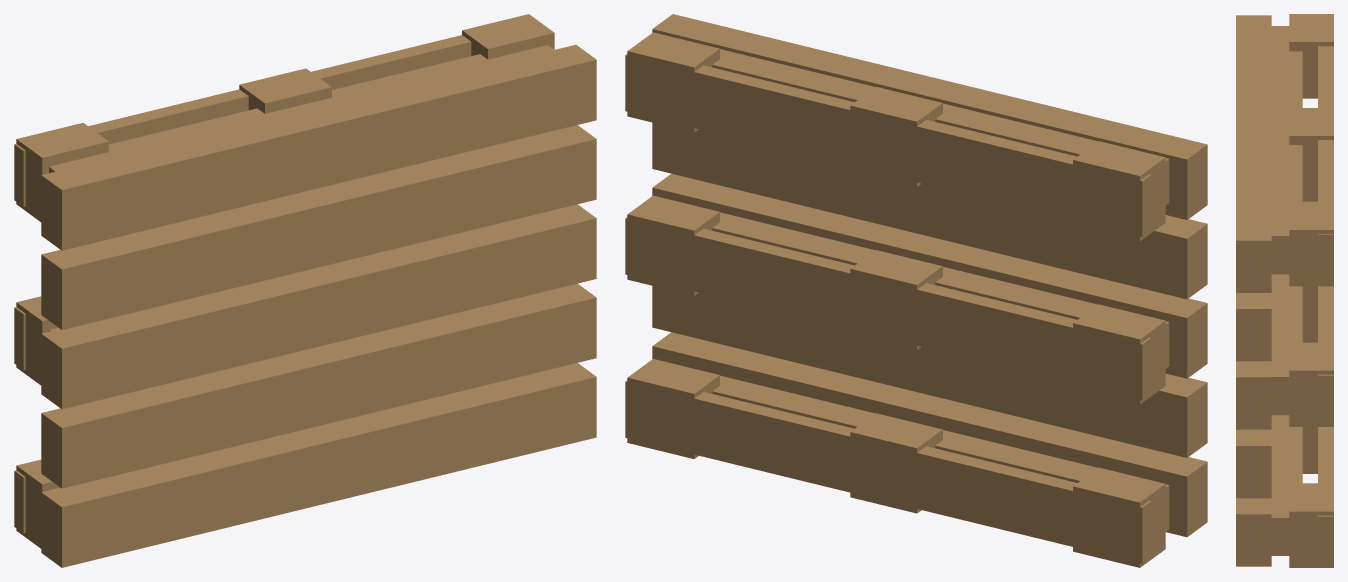
Rendered from pallet.glb.
The picture shows the model from 3 angles, left to right: view 1: azimuth 30°, elevation 25°; view 2: azimuth 150°, elevation 25°; view 3: azimuth 270°, elevation 25°; orthographic projection. The views are drawn at different scales.
Visible parts, largest first — view 1: top-board-4, top-board-1, top-board-2, top-board-0, top-board-3, bottom-board-2, stringer-2, support-0-2, support-2-2, support-1-2, support-0-0, support-0-1; view 2: bottom-board-2, bottom-board-1, bottom-board-0, top-board-3, top-board-1, top-board-0, top-board-2, top-board-4, support-0-2, support-0-1, stringer-0, stringer-1 (+8 smaller); view 3: top-board-4, stringer-2, stringer-1, stringer-0, support-2-2, support-2-0, support-2-1, bottom-board-2, top-board-1, top-board-0, top-board-2, top-board-3 (+8 smaller).
Boxes of the visible parts, x1,y1,x2,y2 form: top-board-4: [41, 44, 596, 250]; top-board-1: [41, 283, 596, 488]; top-board-2: [41, 204, 596, 409]; top-board-0: [41, 363, 596, 567]; top-board-3: [41, 125, 596, 329]; bottom-board-2: [14, 35, 471, 206]; stringer-2: [49, 45, 554, 172]; support-0-2: [16, 123, 108, 221]; support-2-2: [462, 14, 554, 59]; support-1-2: [239, 68, 331, 113]; support-0-0: [16, 459, 59, 548]; support-0-1: [16, 296, 57, 385]; bottom-board-2: [625, 54, 1151, 237]; bottom-board-1: [625, 217, 1151, 400]; bottom-board-0: [625, 380, 1151, 563]; top-board-3: [652, 122, 1207, 299]; top-board-1: [652, 286, 1207, 457]; top-board-0: [652, 332, 1207, 537]; top-board-2: [652, 173, 1207, 378]; top-board-4: [652, 14, 1207, 219]; support-0-2: [1073, 141, 1165, 241]; support-0-1: [1073, 304, 1165, 404]; stringer-0: [712, 375, 1169, 531]; stringer-1: [712, 212, 1169, 368]; top-board-4: [1236, 15, 1271, 292]; stringer-2: [1271, 26, 1302, 274]; stringer-1: [1271, 274, 1302, 415]; stringer-0: [1271, 415, 1302, 555]; support-2-2: [1289, 201, 1333, 286]; support-2-0: [1289, 483, 1333, 567]; support-2-1: [1289, 342, 1333, 426]; bottom-board-2: [1318, 46, 1333, 282]; top-board-1: [1236, 429, 1271, 498]; top-board-0: [1236, 498, 1271, 566]; top-board-2: [1236, 361, 1271, 429]; top-board-3: [1236, 293, 1271, 361].
Size of the model in its own units: 1.2 by 0.84 by 0.22.
